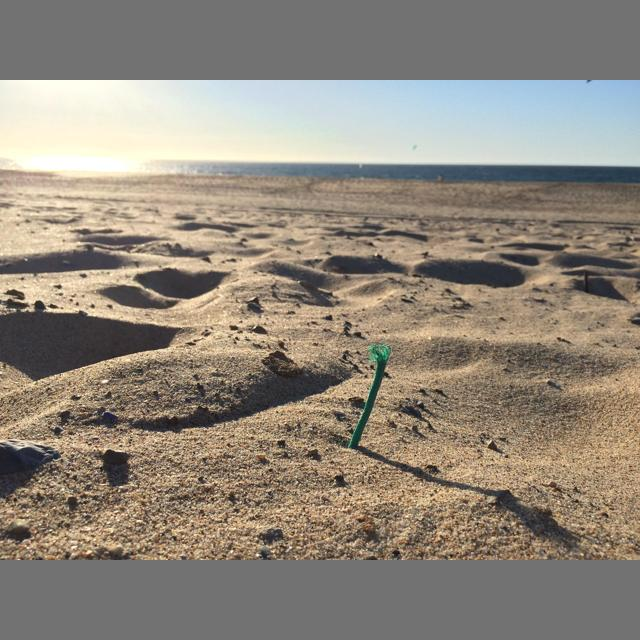litter: (348, 340, 395, 449)
